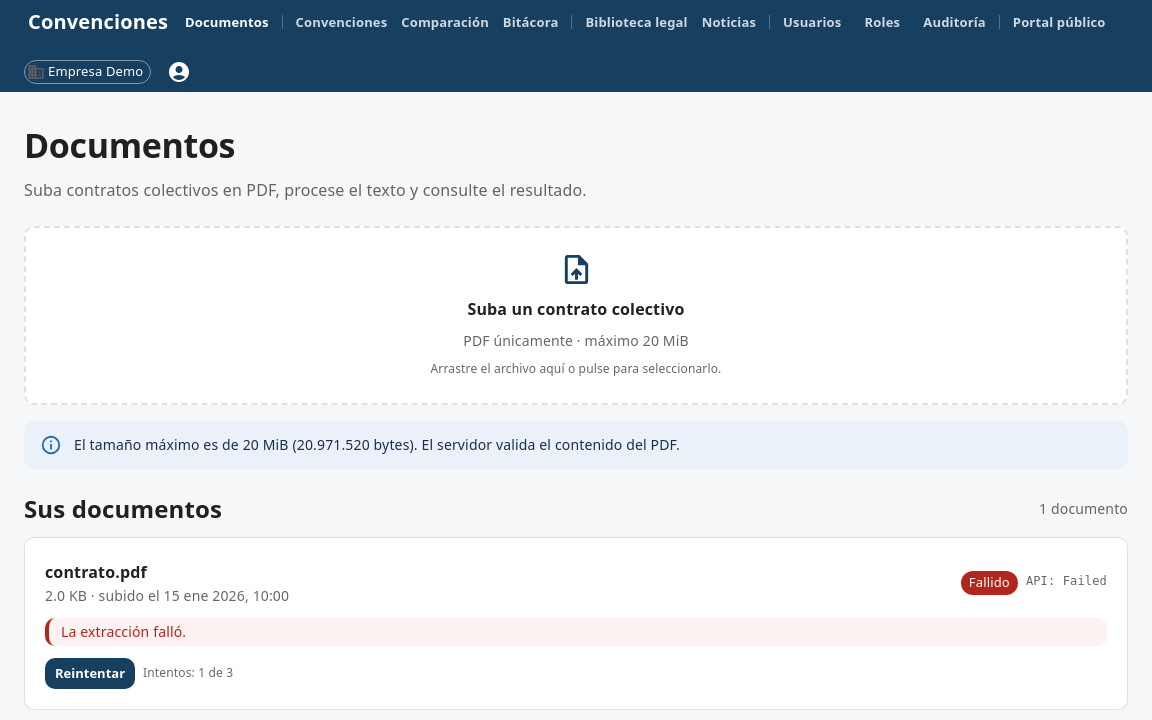
Scenario: DocumentsPage › offers a retry for a failed document and reflects the new failure
Click the button "Reintentar" at (90, 673), box [45,658,135,689]
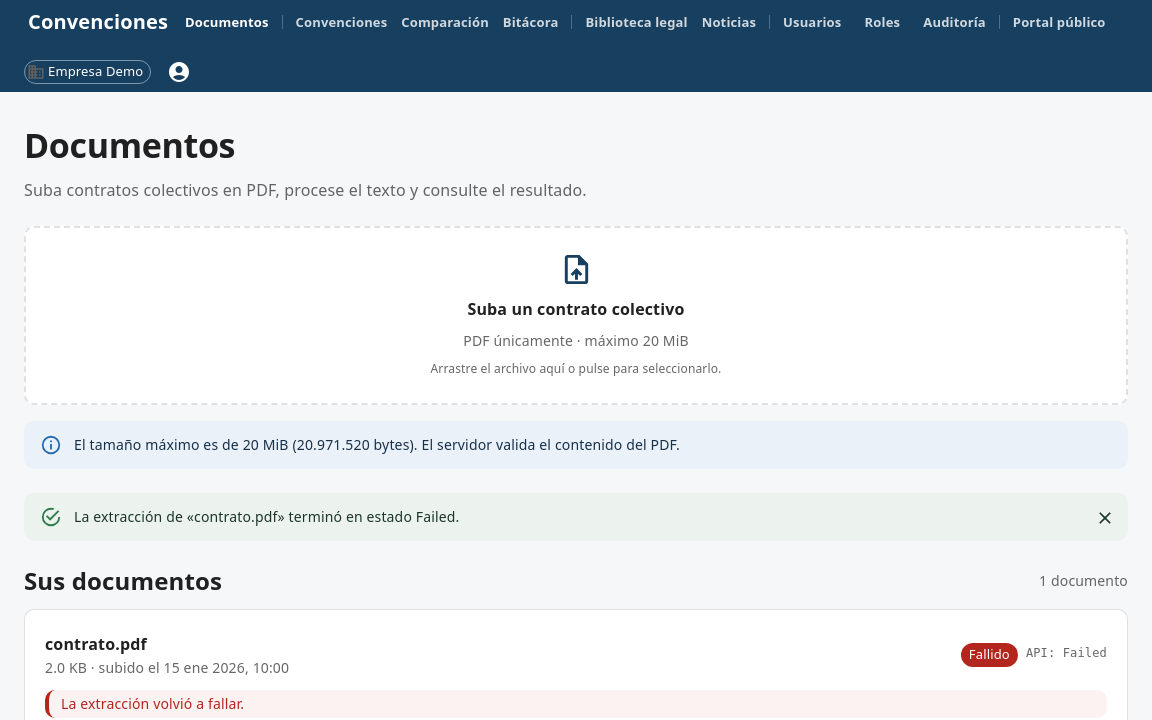
Check: the text "La extracción volvió a fallar." is shown, box [61,694,244,713]
